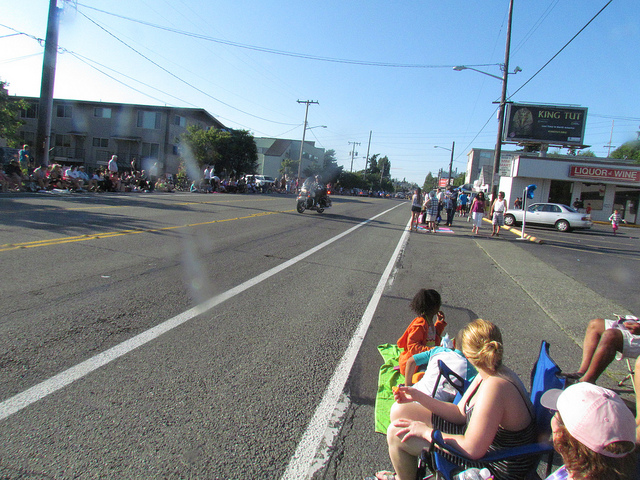Bike: (293, 175, 329, 216)
Car: (507, 204, 592, 232)
Person: (460, 316, 530, 450), (540, 381, 624, 480), (399, 286, 453, 359), (492, 187, 510, 238), (470, 193, 487, 239), (413, 187, 424, 226)
